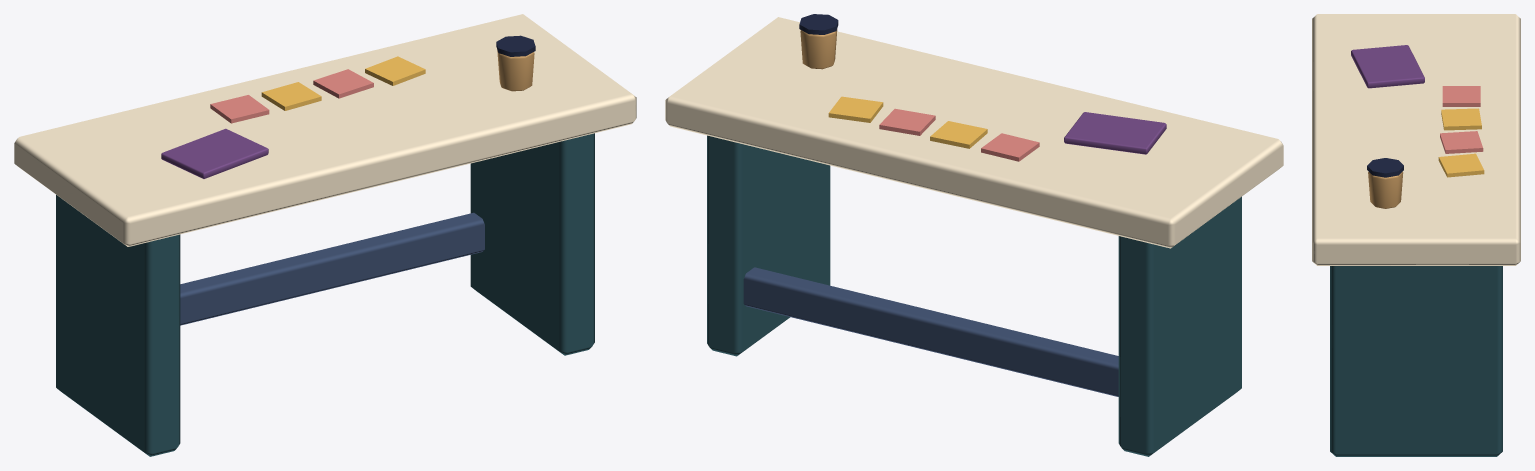
Rendered from huddle_table.glb.
3 views of the same model, side by side, from view 1: azimuth 30°, elevation 25°; view 2: azimuth 150°, elevation 25°; view 3: azimuth 270°, elevation 25° (orthographic). The views are drawn at different scales.
Parts seen in each view (by area): view 1: huddle_table; view 2: huddle_table; view 3: huddle_table.
Part boxes in pixels (x1,y1,x2,y2): huddle_table: [14, 14, 636, 456]; huddle_table: [665, 14, 1283, 456]; huddle_table: [1312, 14, 1520, 456].
Bounding box in the file's own units: 2.28 × 1.26 × 0.88.
